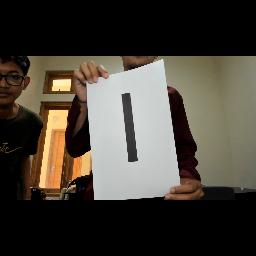i: (108, 83, 146, 167)
